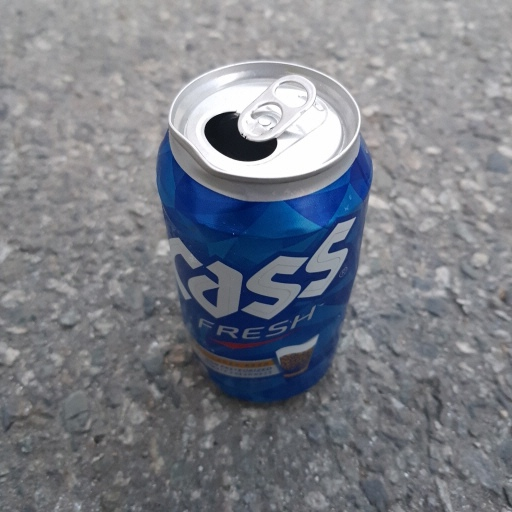Metal_0: (152, 59, 377, 408)
